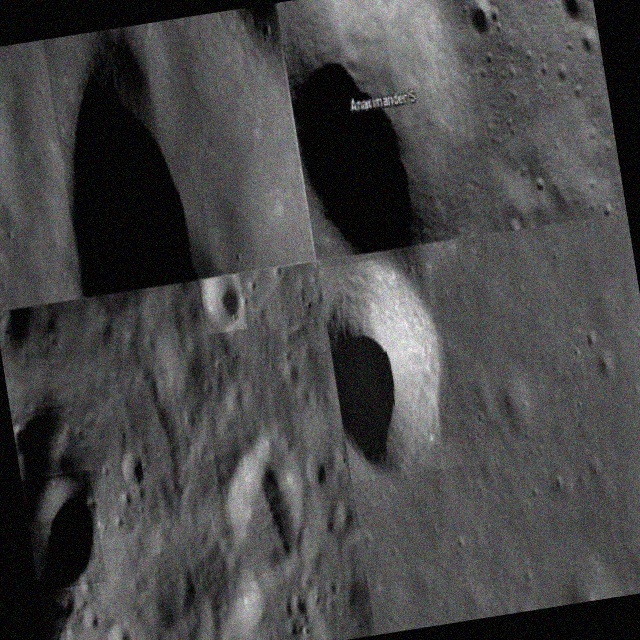crater: (43, 3, 315, 296), (276, 0, 500, 260), (318, 251, 463, 483), (22, 470, 108, 592), (200, 274, 248, 334), (465, 0, 495, 35), (558, 0, 590, 24), (579, 24, 600, 54)
